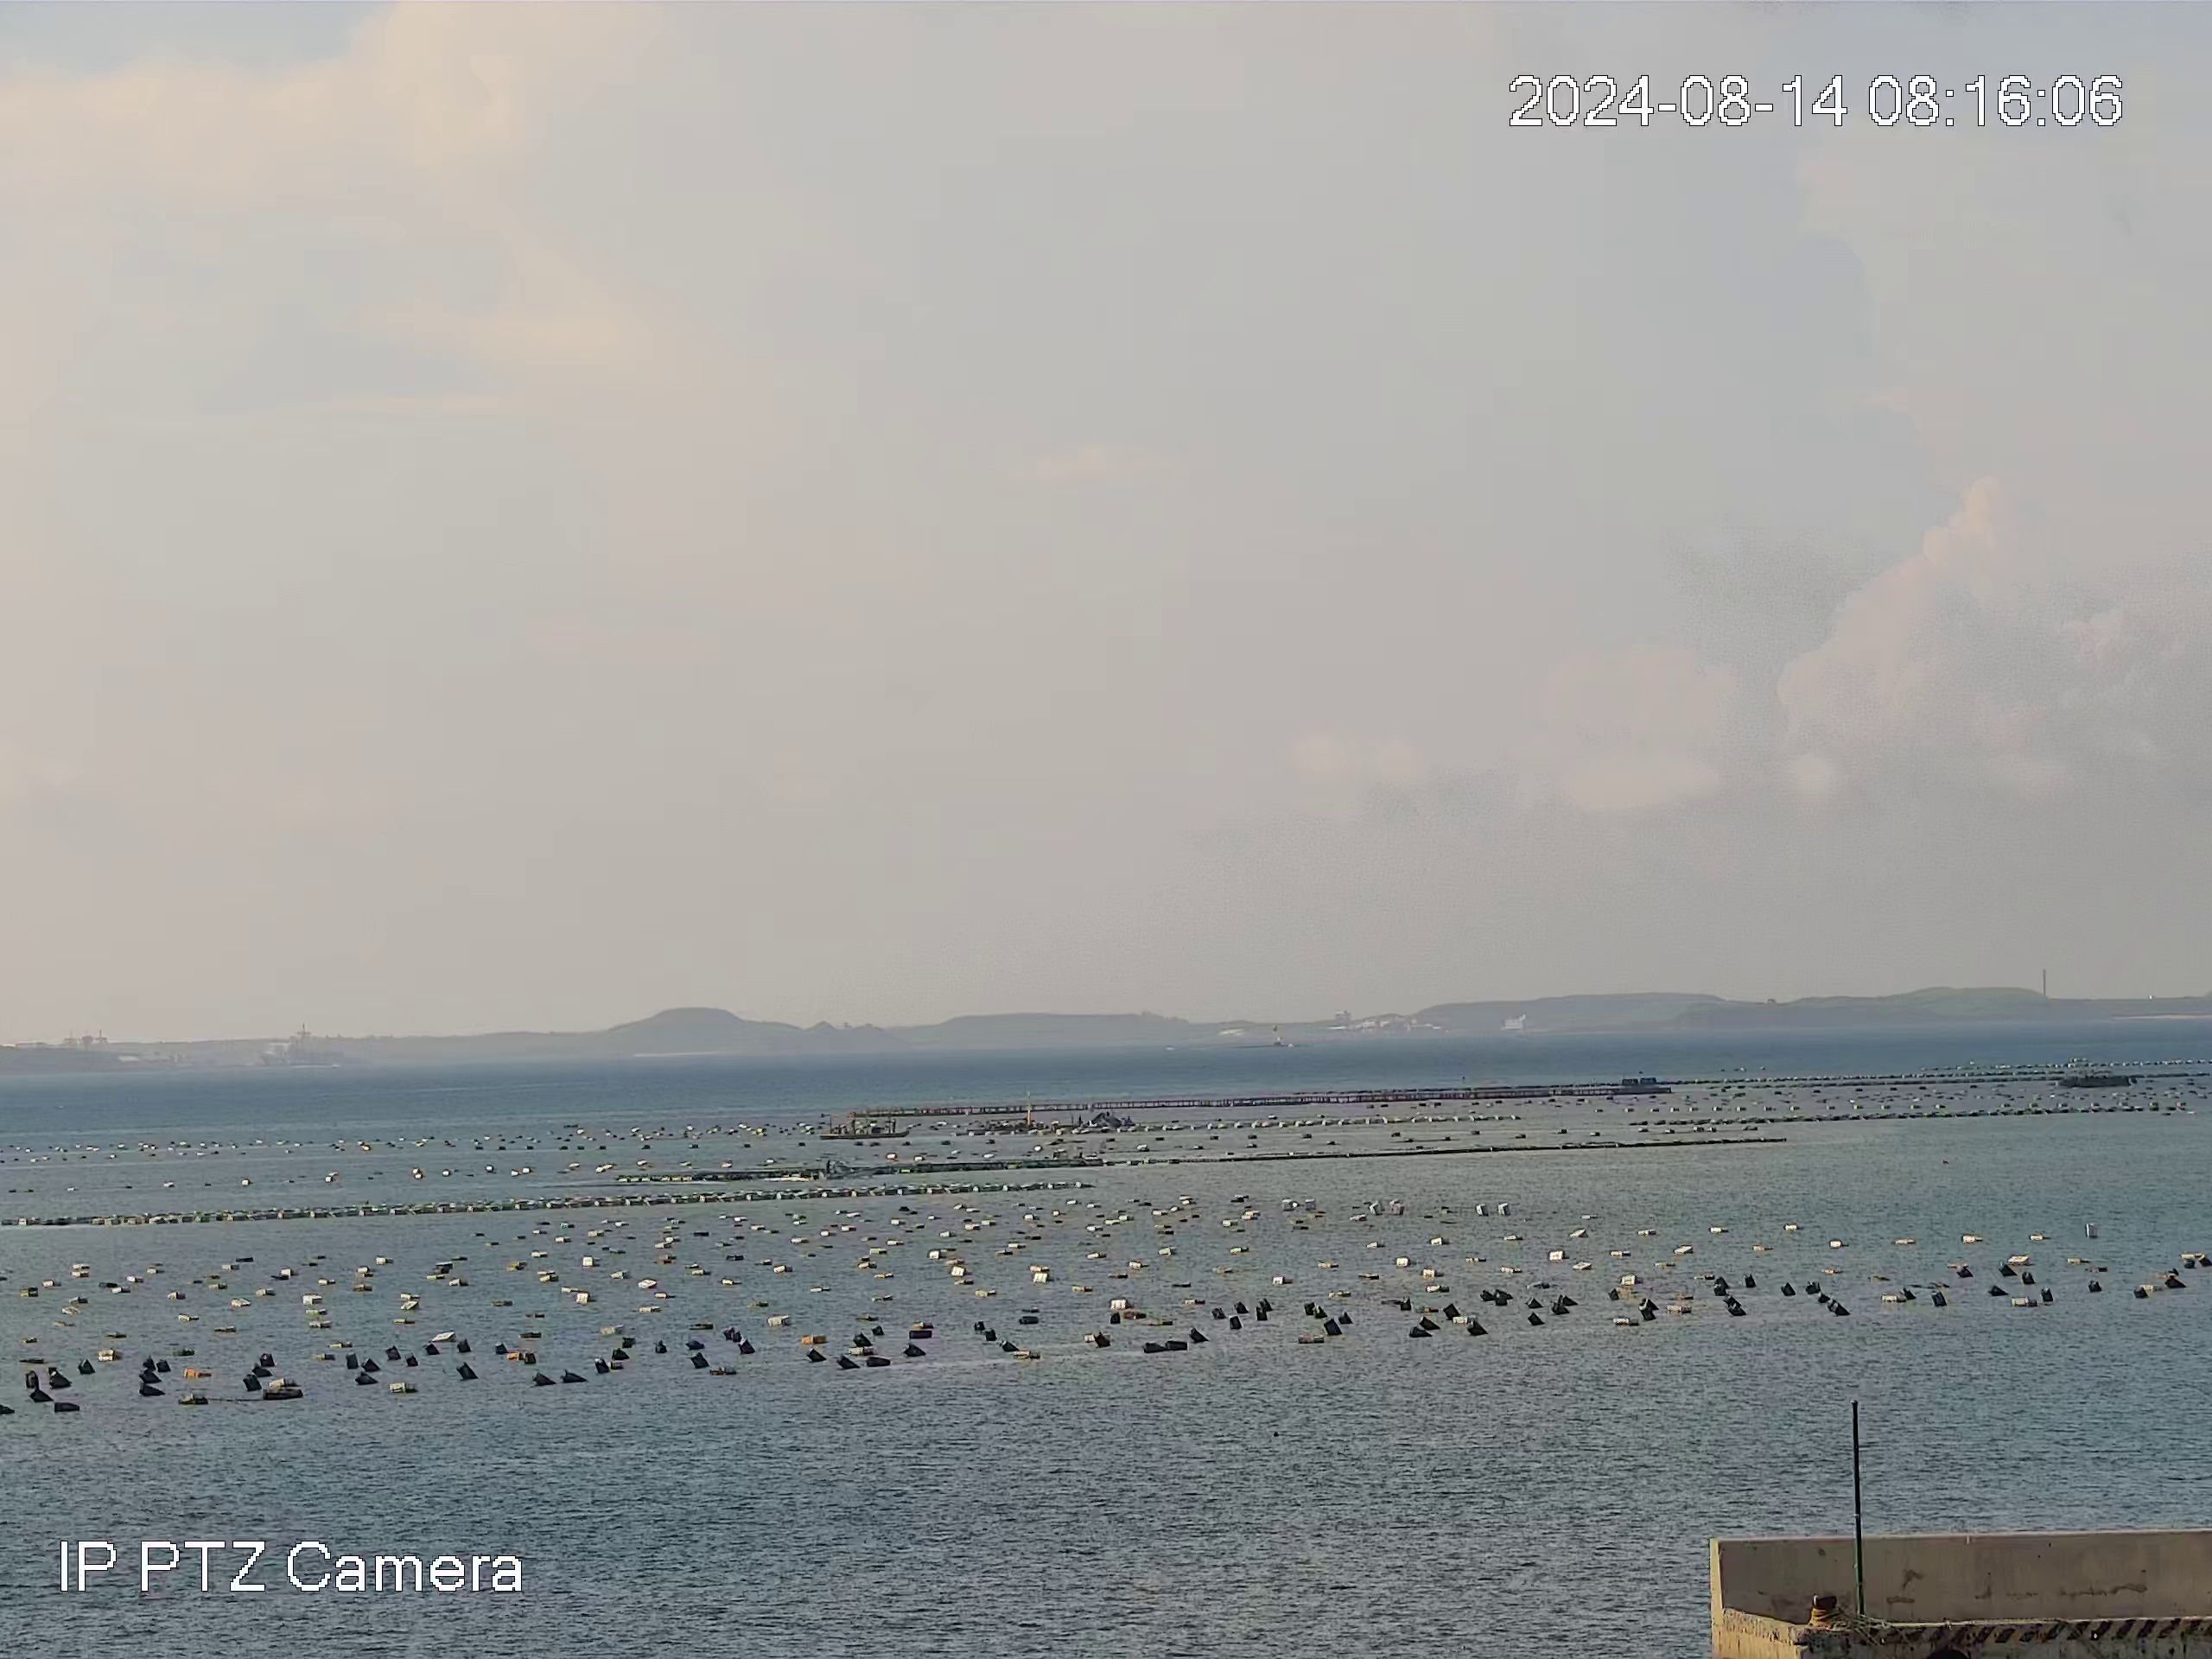boat: (824, 1112, 913, 1140), (2057, 1061, 2137, 1089)
